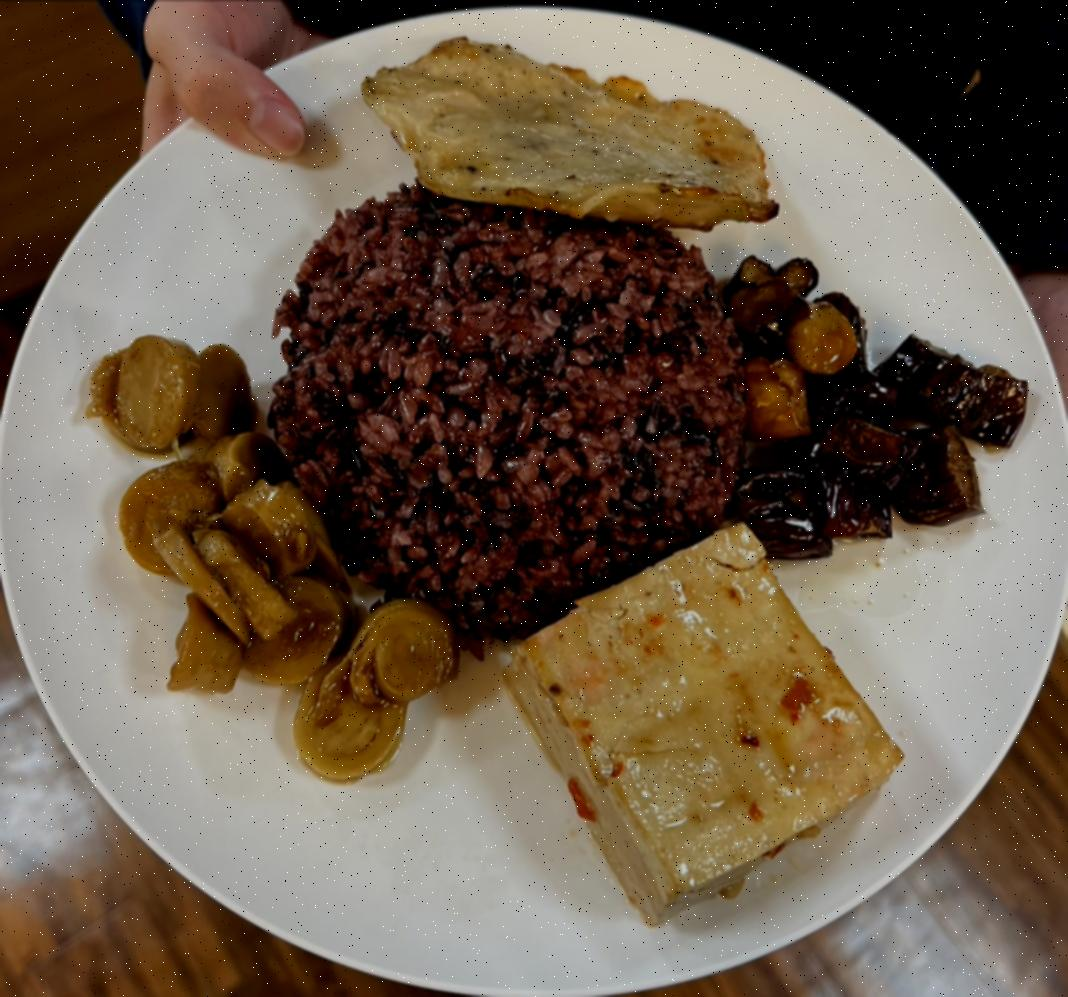grilled chicken steak: (354, 34, 779, 231)
plate: (2, 12, 1068, 997)
purple rice: (270, 186, 743, 632)
side dish: (82, 336, 463, 783), (492, 514, 903, 926), (714, 248, 1032, 564)
